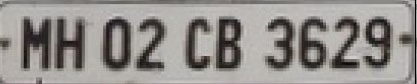character: (19, 14, 51, 71), (263, 15, 294, 71), (54, 15, 84, 72), (101, 16, 132, 71), (329, 15, 360, 70), (136, 16, 165, 71), (299, 14, 328, 69), (183, 17, 212, 71), (214, 16, 242, 70), (363, 16, 391, 69)
